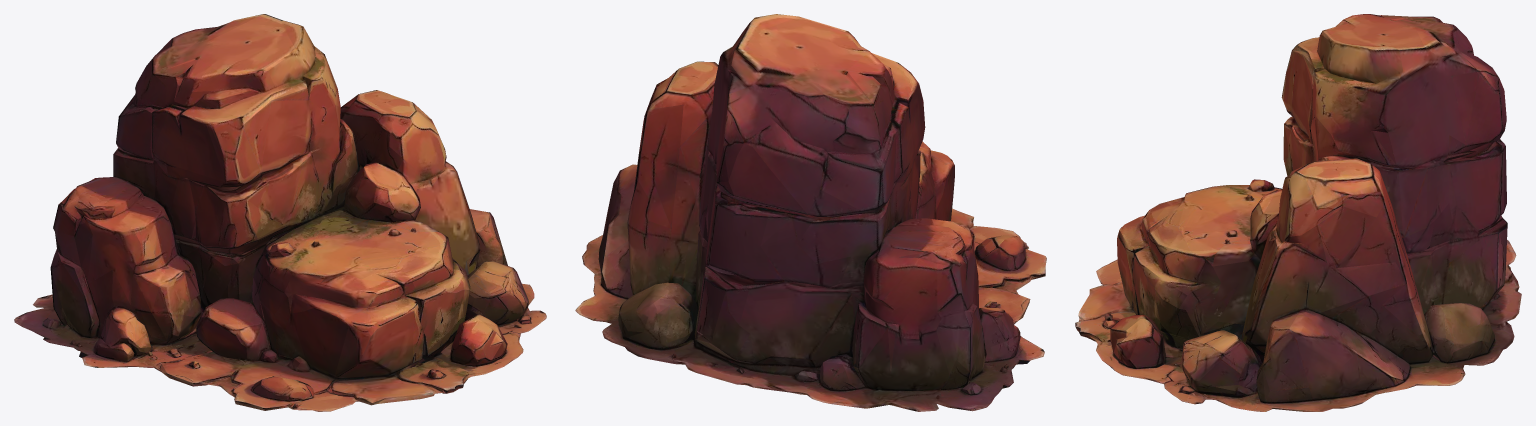
File: rocks.glb
3 renders of one model, left to right at view 1: azimuth 30°, elevation 25°; view 2: azimuth 150°, elevation 25°; view 3: azimuth 270°, elevation 25°, orthographic. The views are drawn at different scales.
Size of the model in its own units: 1.9 by 1.14 by 1.67.
1 material, 1 textured.
